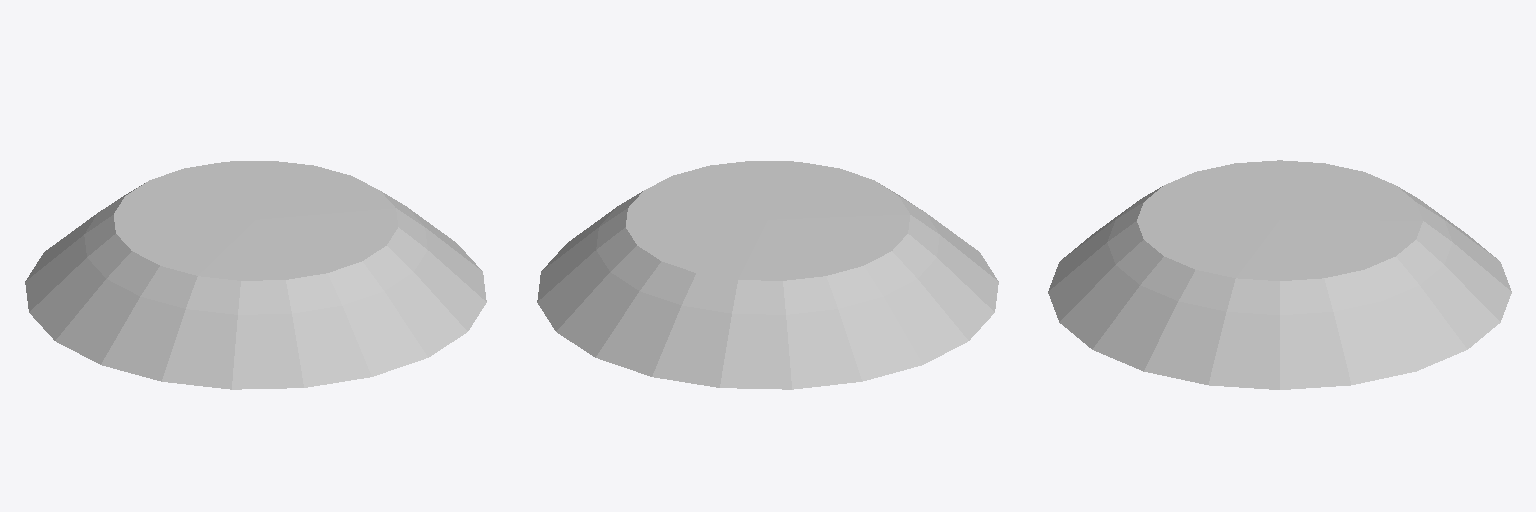
File: bolardopeq.obj
The picture shows the model from 3 angles: view 1: azimuth 30°, elevation 25°; view 2: azimuth 150°, elevation 25°; view 3: azimuth 270°, elevation 25°; orthographic projection.
Parts seen in each view (by area): view 1: pSphere1; view 2: pSphere1; view 3: pSphere1.
Part boxes in pixels (x1,y1,x2,y2): pSphere1: (25,161,486,389); pSphere1: (537,161,998,389); pSphere1: (1048,160,1511,389).
Size of the model in its own units: 2.12 by 0.3648 by 2.12.